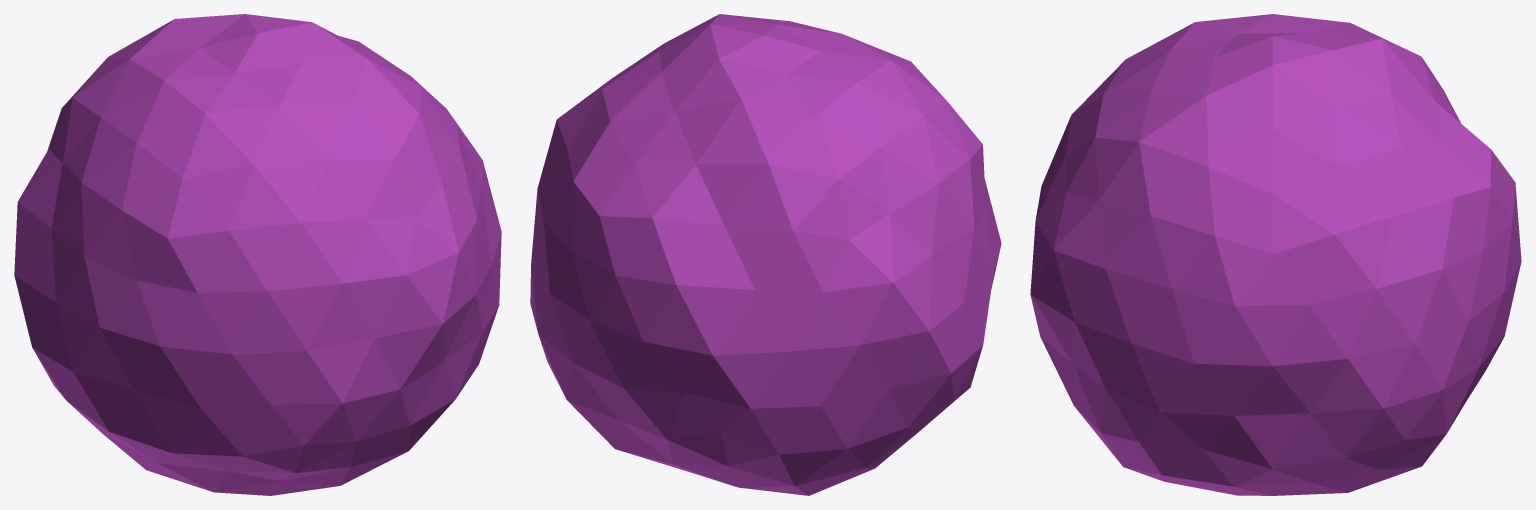
File: cabstage.fbx
The picture shows the model from 3 angles, left to right: view 1: azimuth 30°, elevation 25°; view 2: azimuth 150°, elevation 25°; view 3: azimuth 270°, elevation 25°; orthographic projection. The views are drawn at different scales.
Visible parts, largest first — view 1: Icosphere.001; view 2: Icosphere.001; view 3: Icosphere.001.
Part boxes in pixels (bbox=[...]): Icosphere.001: bbox=[14, 14, 501, 495]; Icosphere.001: bbox=[530, 14, 1001, 495]; Icosphere.001: bbox=[1030, 14, 1521, 495].
Bounding box in the file's own units: 93.87 × 94.03 × 93.38.
